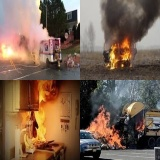fire: (84, 106, 126, 149), (20, 111, 47, 141), (106, 38, 132, 69), (39, 80, 55, 109), (0, 40, 15, 59), (133, 118, 147, 134)
